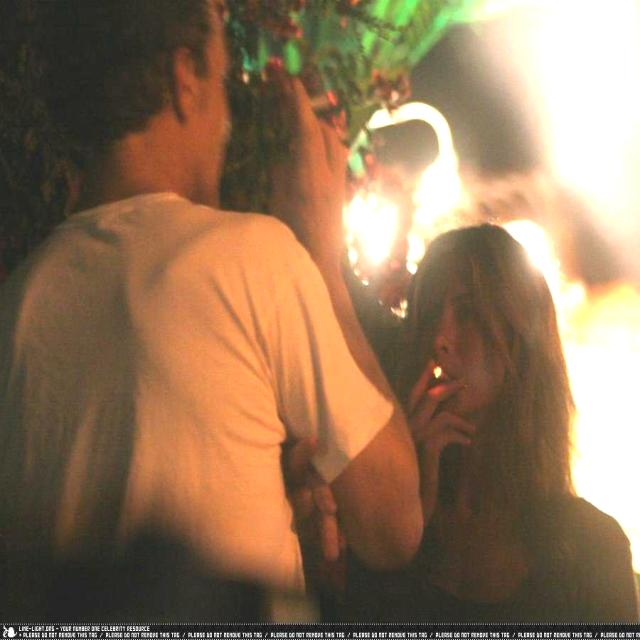Smooking: (310, 77, 340, 116), (423, 355, 458, 387)
